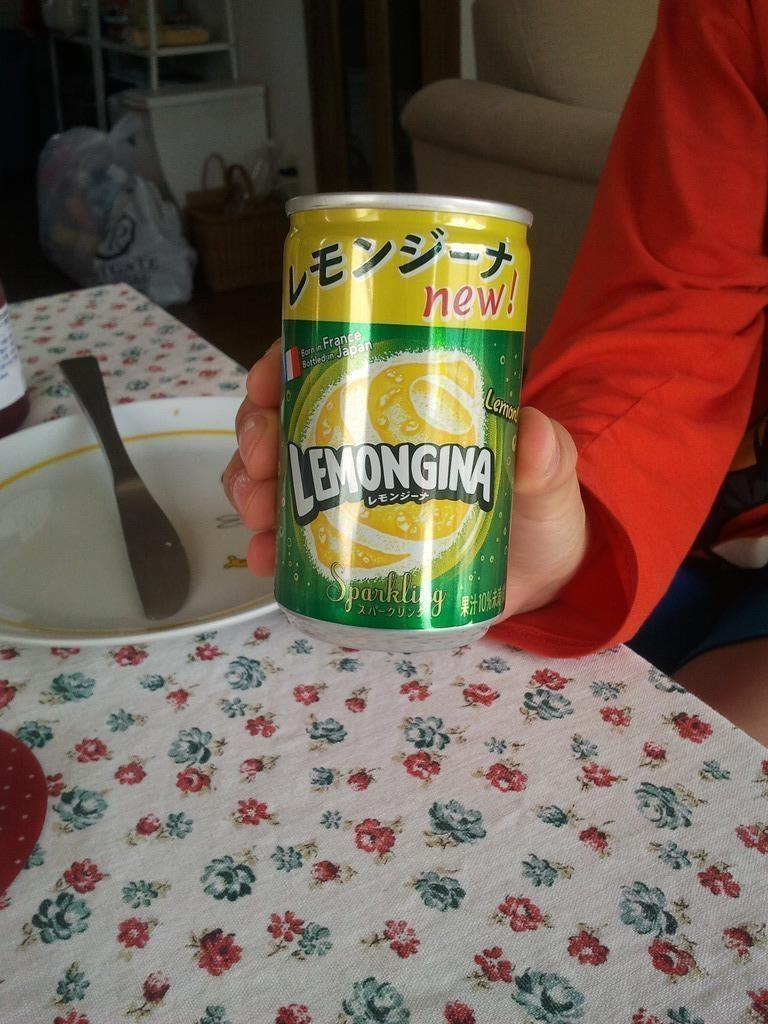tin can: (277, 189, 536, 654)
